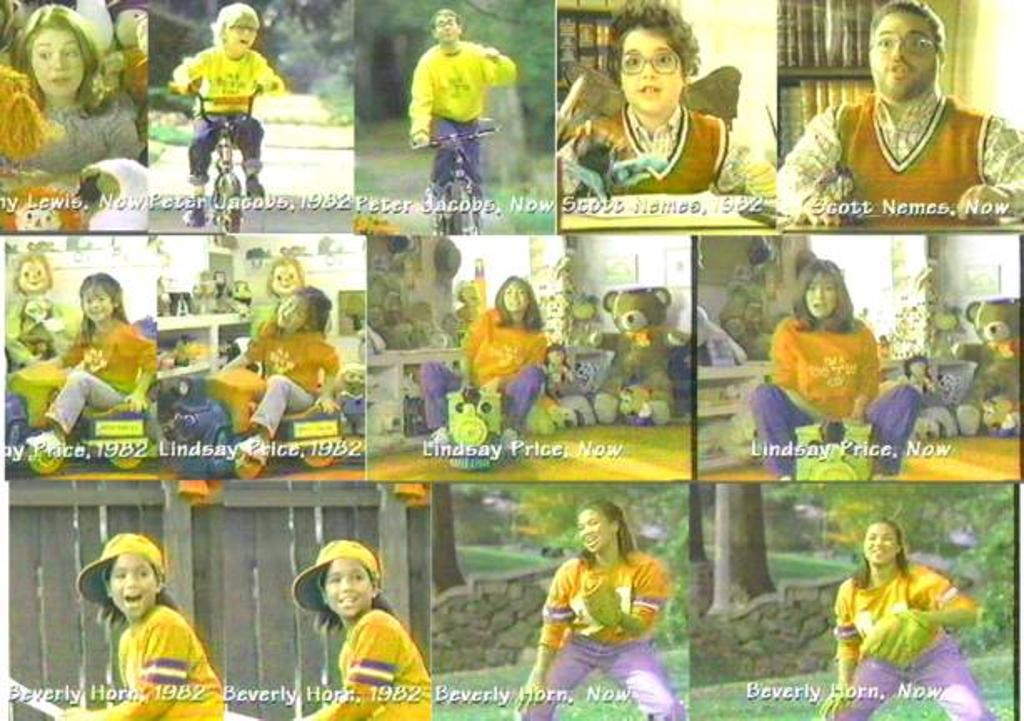face: (871, 16, 936, 100), (621, 37, 682, 114), (32, 29, 84, 97), (111, 557, 157, 619), (325, 561, 372, 618), (578, 512, 611, 553), (864, 526, 898, 564), (807, 277, 838, 318), (83, 289, 113, 322), (278, 296, 308, 329), (227, 22, 258, 50), (436, 16, 460, 43), (504, 286, 528, 312)
